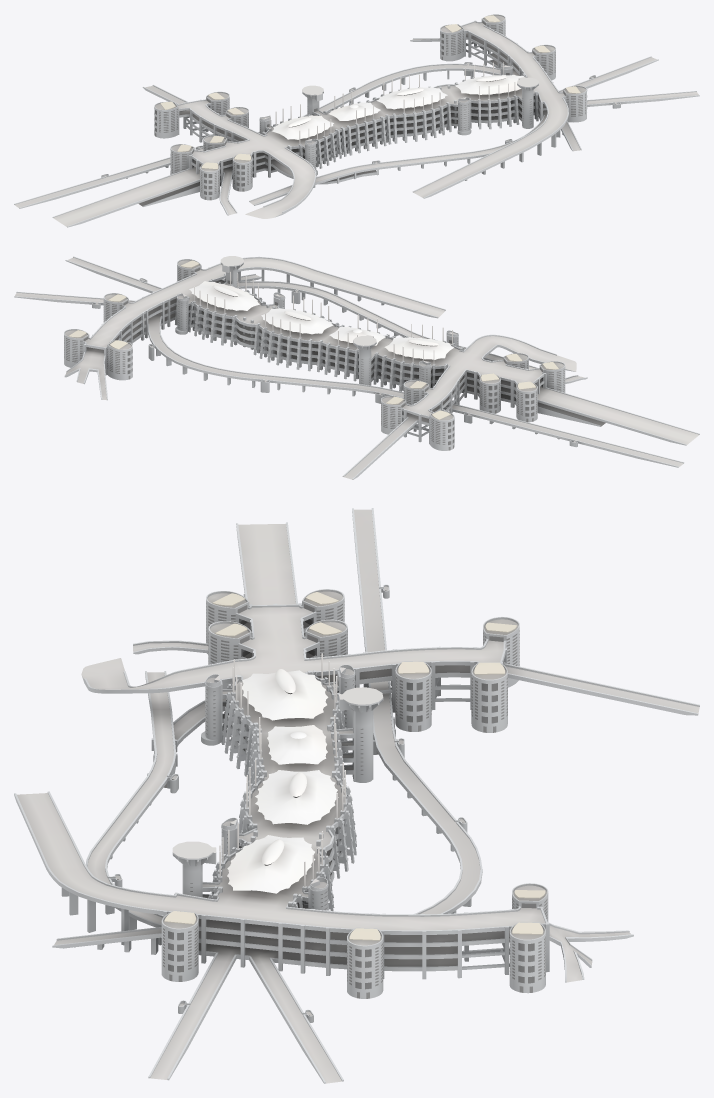
The model's file is meccajabal.glb.
3 renders of one model, top to bottom at view 1: azimuth 30°, elevation 25°; view 2: azimuth 150°, elevation 25°; view 3: azimuth 270°, elevation 25°, orthographic. The views are drawn at different scales.
Visible parts, largest first — view 1: meccajabal; view 2: meccajabal; view 3: meccajabal.
Boxes of the visible parts, x1=… form: meccajabal: x1=14, y1=14, x2=699, y2=227; meccajabal: x1=14, y1=256, x2=699, y2=479; meccajabal: x1=14, y1=508, x2=699, y2=1083.
Size of the model in its own units: 1378 by 92.43 by 696.
Materials: 1 (1 with a texture image).
